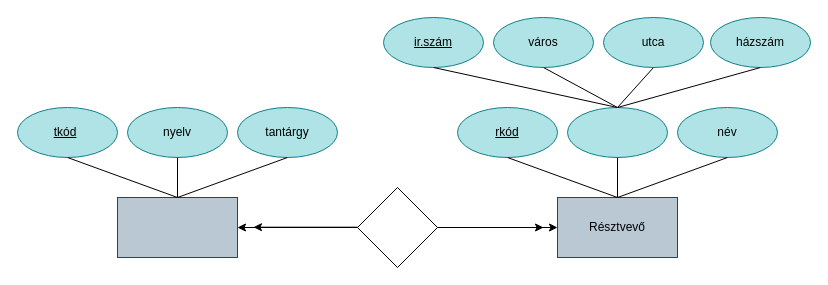
This 828x285 diagram has some shape labels left out. Each missing label, with the box of its shape:
lakcím: (566, 106, 668, 158)
T-R: (356, 186, 438, 268)
Tanfolyam: (116, 196, 238, 258)
